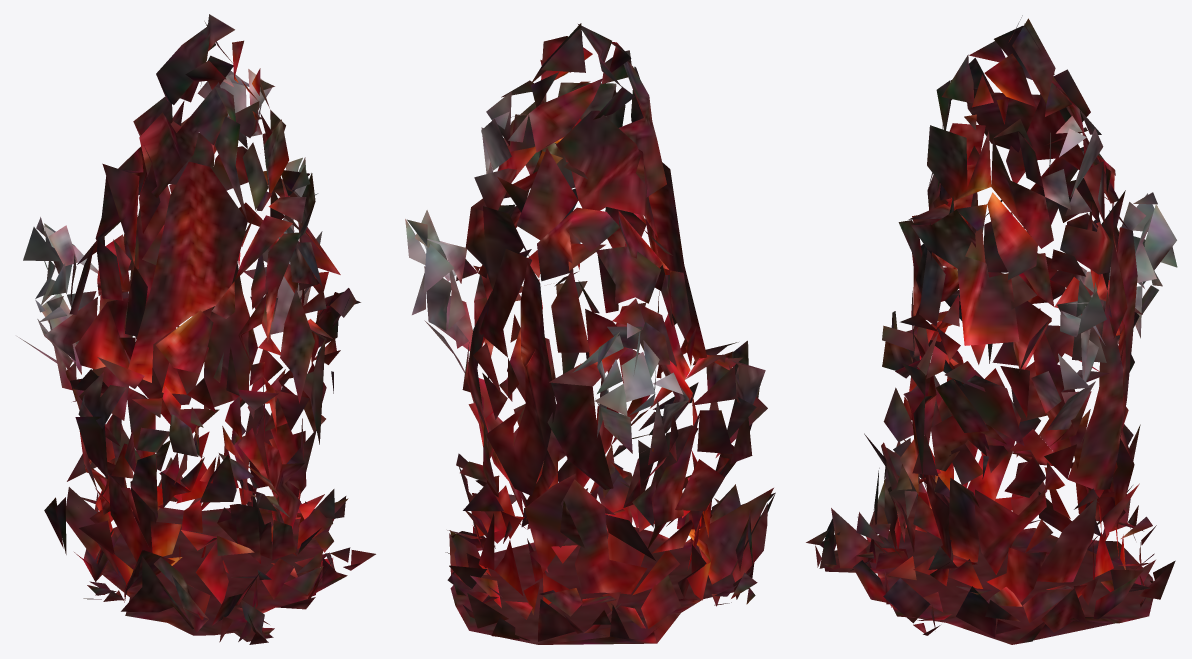
File: metin_lod2.glb
3 renders of one model, left to right at view 1: azimuth 30°, elevation 25°; view 2: azimuth 150°, elevation 25°; view 3: azimuth 270°, elevation 25°, orthographic. The views are drawn at different scales.
Visible parts, largest first — view 1: metin; view 2: metin; view 3: metin.
Boxes of the visible parts, bbox=[...] form: metin: bbox=[17, 14, 375, 644]; metin: bbox=[405, 23, 775, 644]; metin: bbox=[806, 15, 1177, 644].
Size of the model in its own units: 1.92 by 3.57 by 2.05.
Materials: 1 (1 with a texture image).
